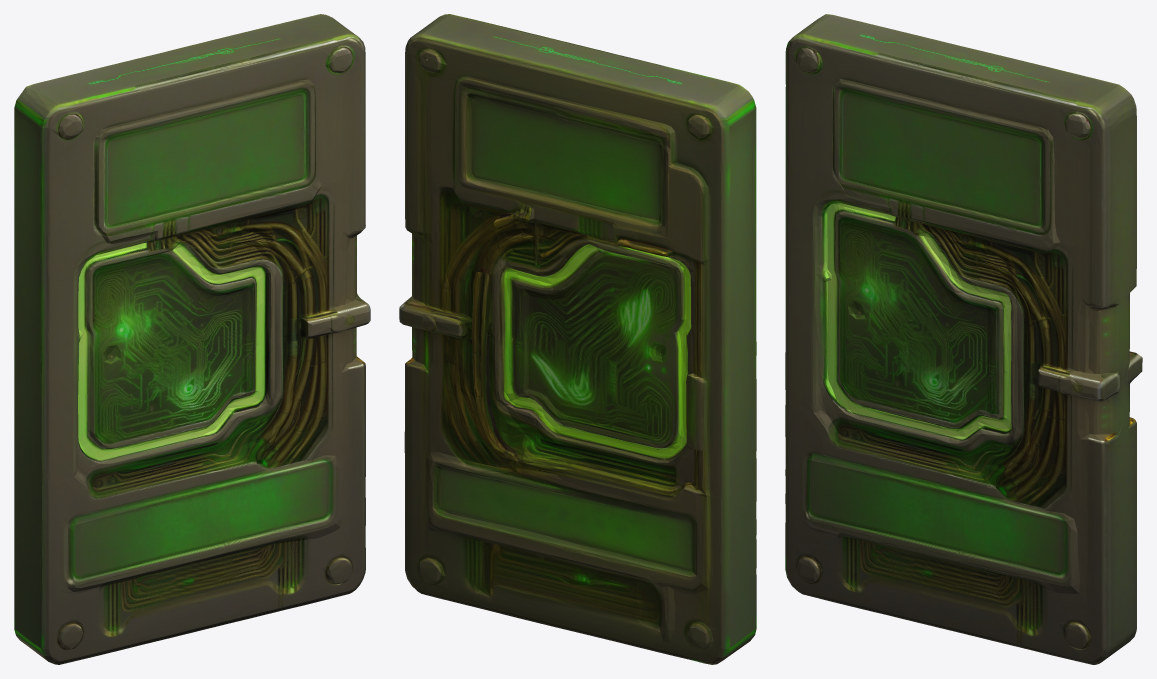
Rendered from Neon_Circuitry_0620170017_texture.fbx.
3 views of the same model, side by side, from view 1: azimuth 30°, elevation 25°; view 2: azimuth 150°, elevation 25°; view 3: azimuth 330°, elevation 25° (orthographic).
Visible parts, largest first — view 1: temp; view 2: temp; view 3: temp.
Part boxes in pixels (x1,y1,x2,y2): temp: (14, 14, 370, 664); temp: (399, 14, 756, 664); temp: (785, 14, 1142, 664).
Bounding box in the file's own units: 122 × 200 × 29.51.
1 material, 1 textured.
